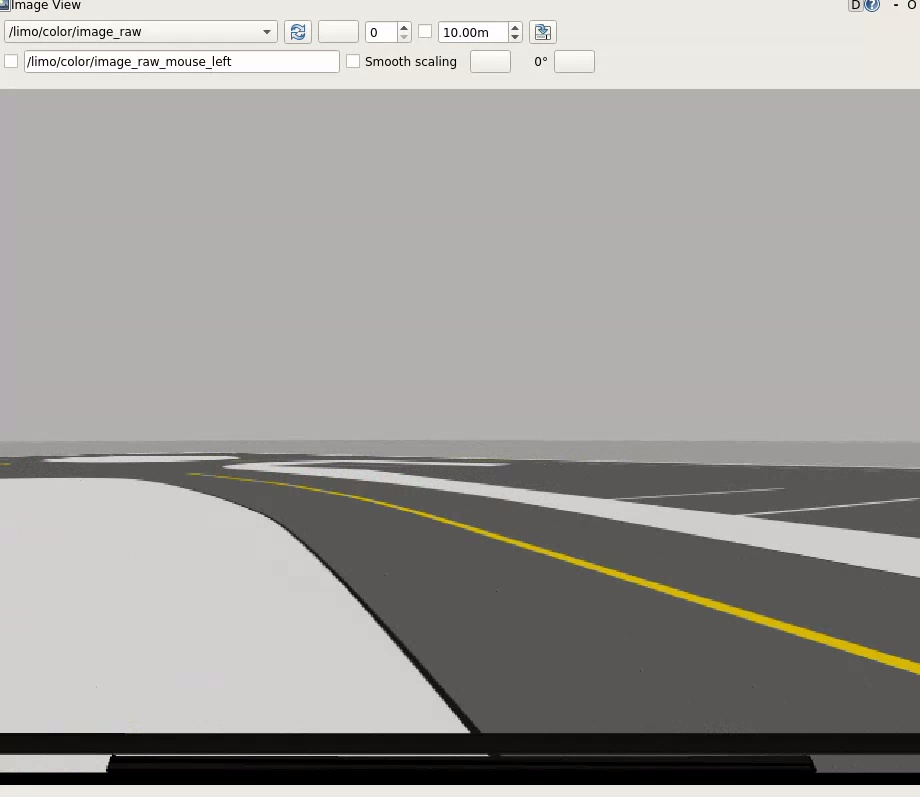Parking: (615, 490, 918, 515)
Solid: (189, 473, 919, 675)
Street: (168, 472, 919, 732), (323, 461, 919, 537), (0, 454, 548, 481)
